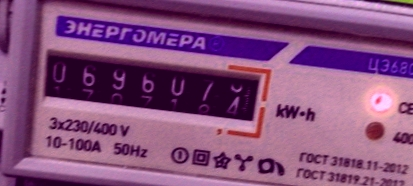0: (49, 57, 68, 83), (168, 69, 186, 96)
4: (223, 91, 242, 117)
6: (138, 67, 158, 93), (78, 61, 98, 86)
7: (197, 75, 215, 103)
9: (108, 64, 127, 90)
screen: (26, 33, 276, 135)
